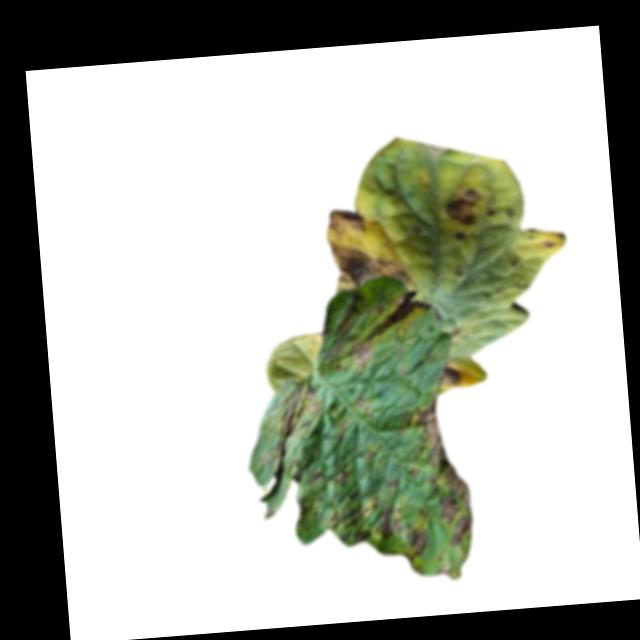Early_blight: (412, 394, 477, 550), (344, 289, 432, 369), (329, 237, 414, 293), (325, 492, 405, 543), (442, 186, 483, 229), (326, 207, 374, 235), (402, 527, 428, 562), (437, 366, 463, 391), (453, 230, 468, 244)
